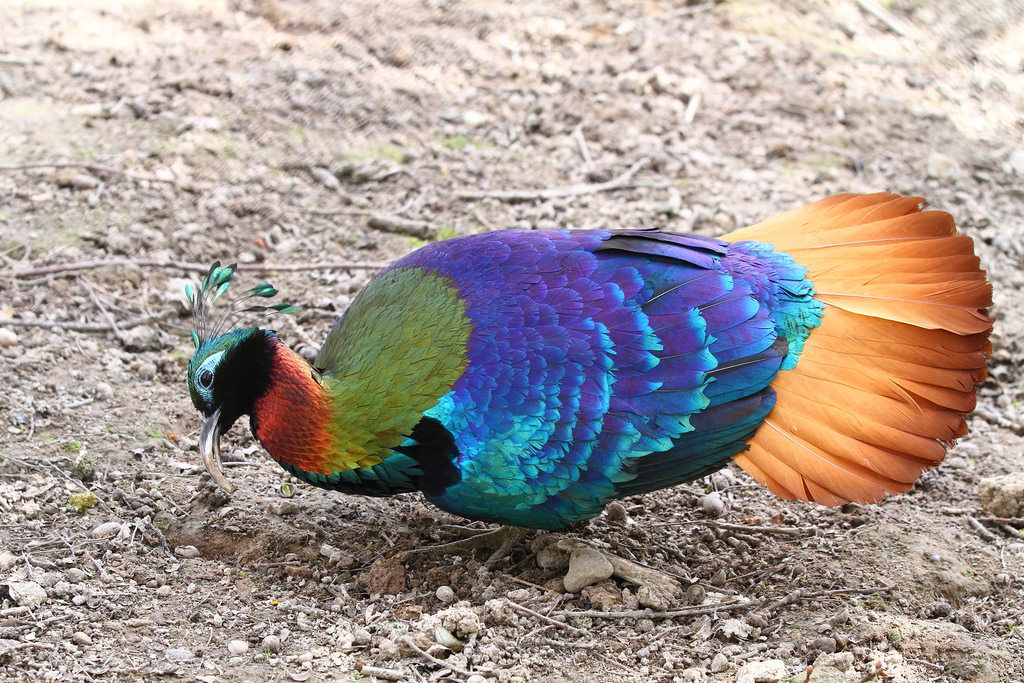bird: (172, 181, 998, 589)
